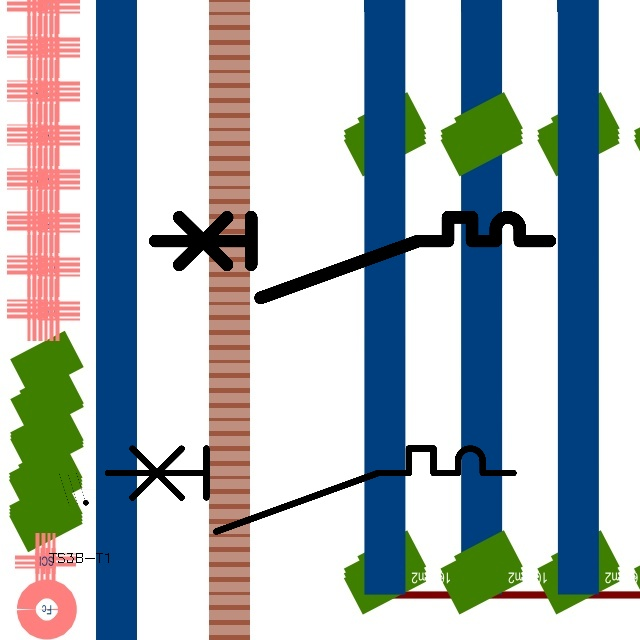interruptor_termomagnetico: (97, 438, 523, 542), (145, 207, 560, 308)
